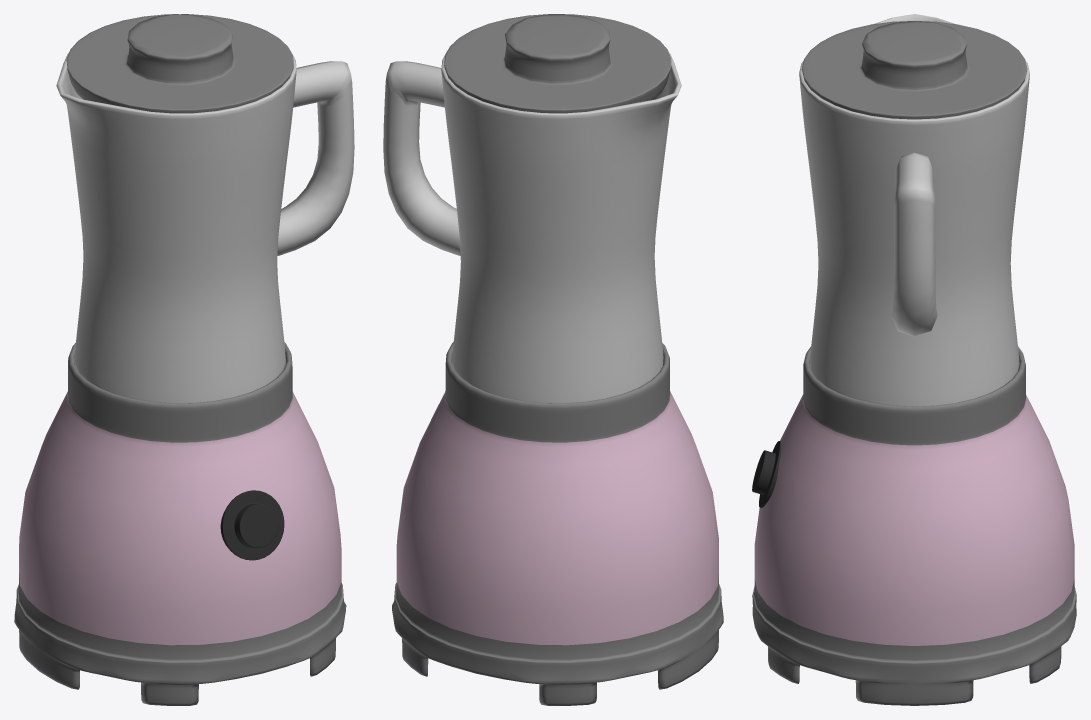
Rendered from Blender.fbx.
3 renders of one model, left to right at view 1: azimuth 30°, elevation 25°; view 2: azimuth 150°, elevation 25°; view 3: azimuth 270°, elevation 25°, orthographic.
Visible parts, largest first — view 1: Blender_Body, Blender_Glass, Blender_Cover, Blender_Button; view 2: Blender_Body, Blender_Glass, Blender_Cover; view 3: Blender_Body, Blender_Glass, Blender_Cover, Blender_Button.
Boxes of the visible parts, box(x1,y1,x2,y2) form: Blender_Body: box(14, 342, 346, 705); Blender_Glass: box(56, 53, 354, 403); Blender_Cover: box(66, 14, 293, 113); Blender_Button: box(220, 490, 284, 560); Blender_Body: box(392, 342, 723, 705); Blender_Glass: box(383, 52, 681, 403); Blender_Cover: box(444, 14, 671, 113); Blender_Body: box(752, 346, 1076, 705); Blender_Glass: box(799, 14, 1029, 406); Blender_Cover: box(802, 21, 1027, 119); Blender_Button: box(752, 441, 781, 507).
Size of the model in its own units: 2.15 by 1.95 by 3.95.
